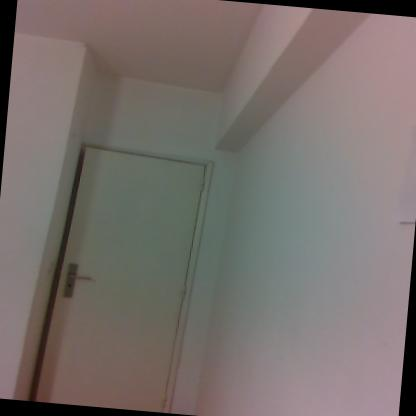closed: (42, 121, 244, 415)
